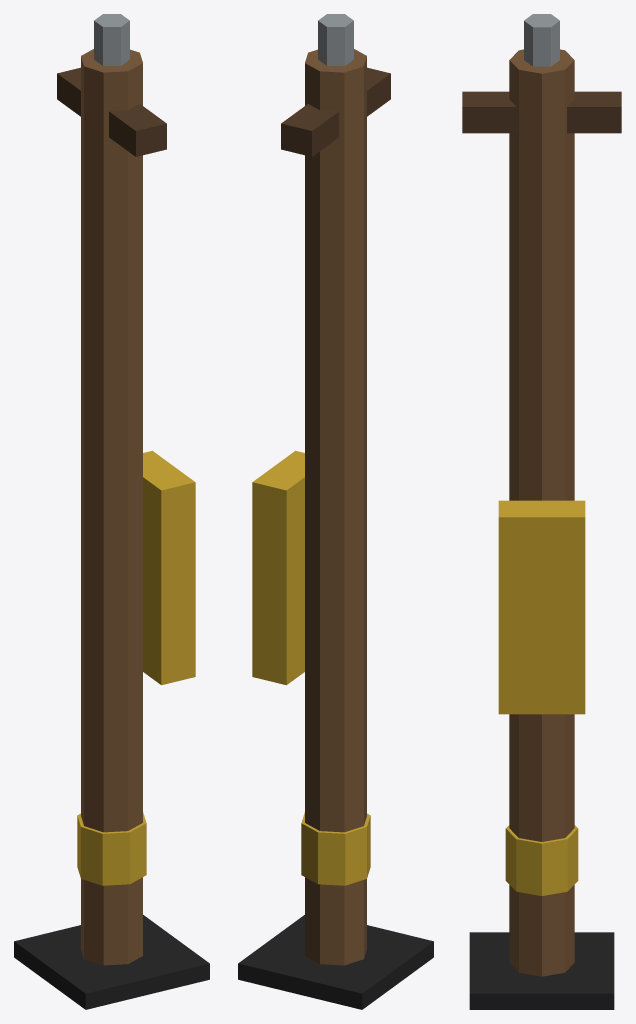
The model's file is small_pole.obj.
3 views of the same model, side by side, from view 1: azimuth 30°, elevation 25°; view 2: azimuth 150°, elevation 25°; view 3: azimuth 270°, elevation 25° (orthographic).
Visible parts, largest first — view 1: body; view 2: body; view 3: body.
Part boxes in pixels (box(x1,y1,x2,y2)): body: box(14, 14, 209, 1009); body: box(238, 14, 433, 1009); body: box(462, 14, 621, 1009).
Size of the model in its own units: 0.4 by 2.92 by 0.44.
